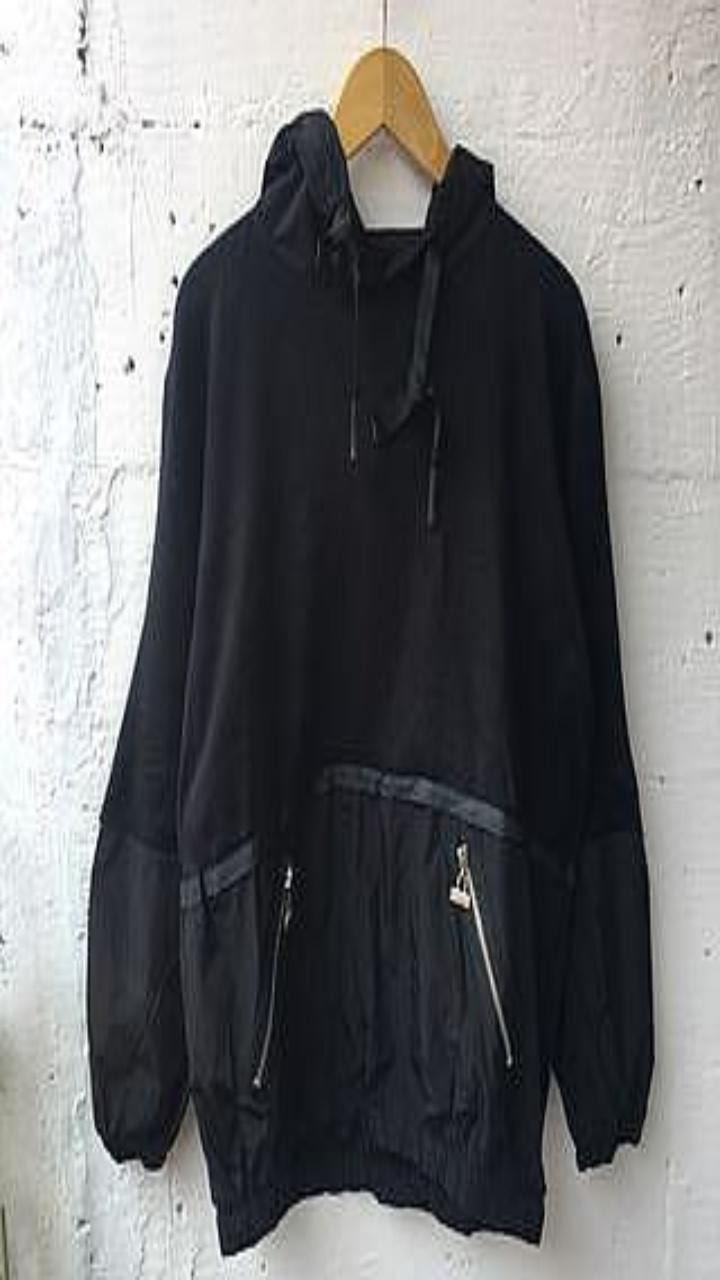Sports_Jacket: (87, 107, 653, 1253)
